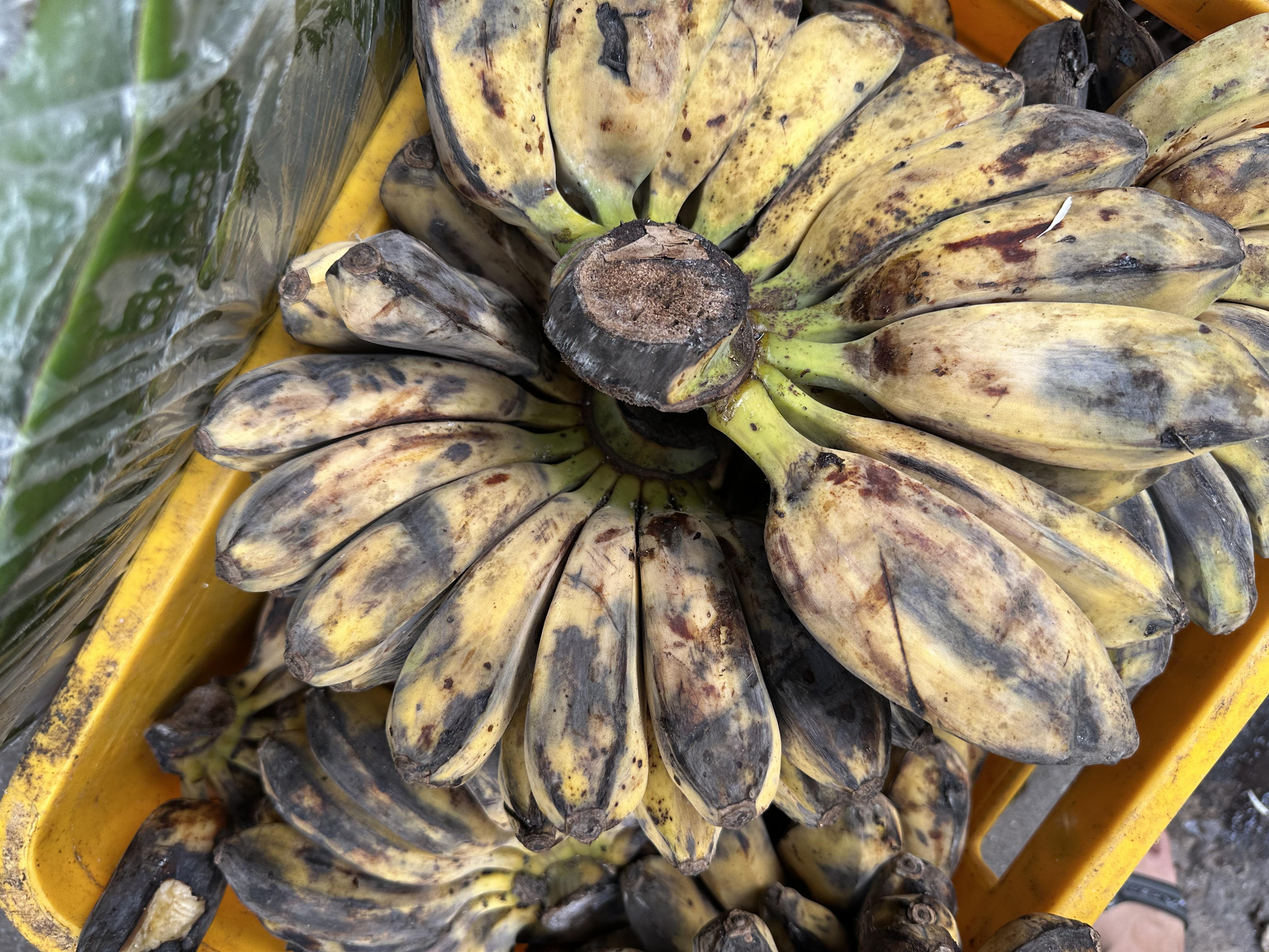ripe: (414, 0, 1269, 762), (196, 136, 933, 874), (618, 731, 979, 952), (214, 686, 511, 952)
